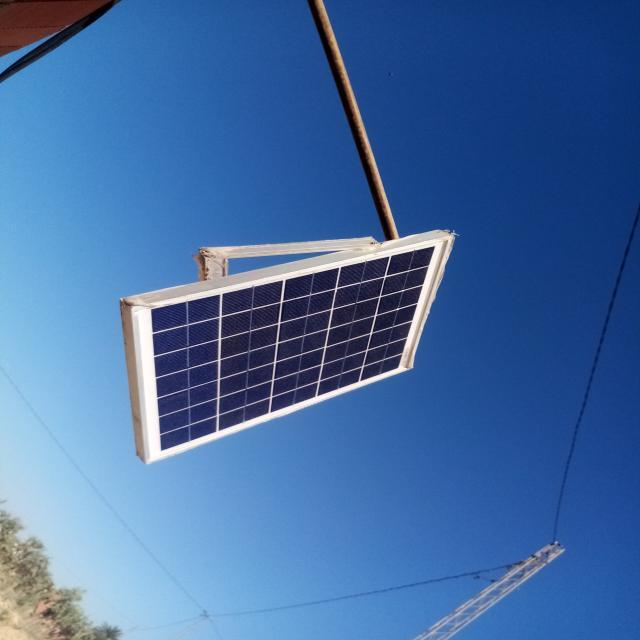no faulty: (131, 236, 453, 463)
